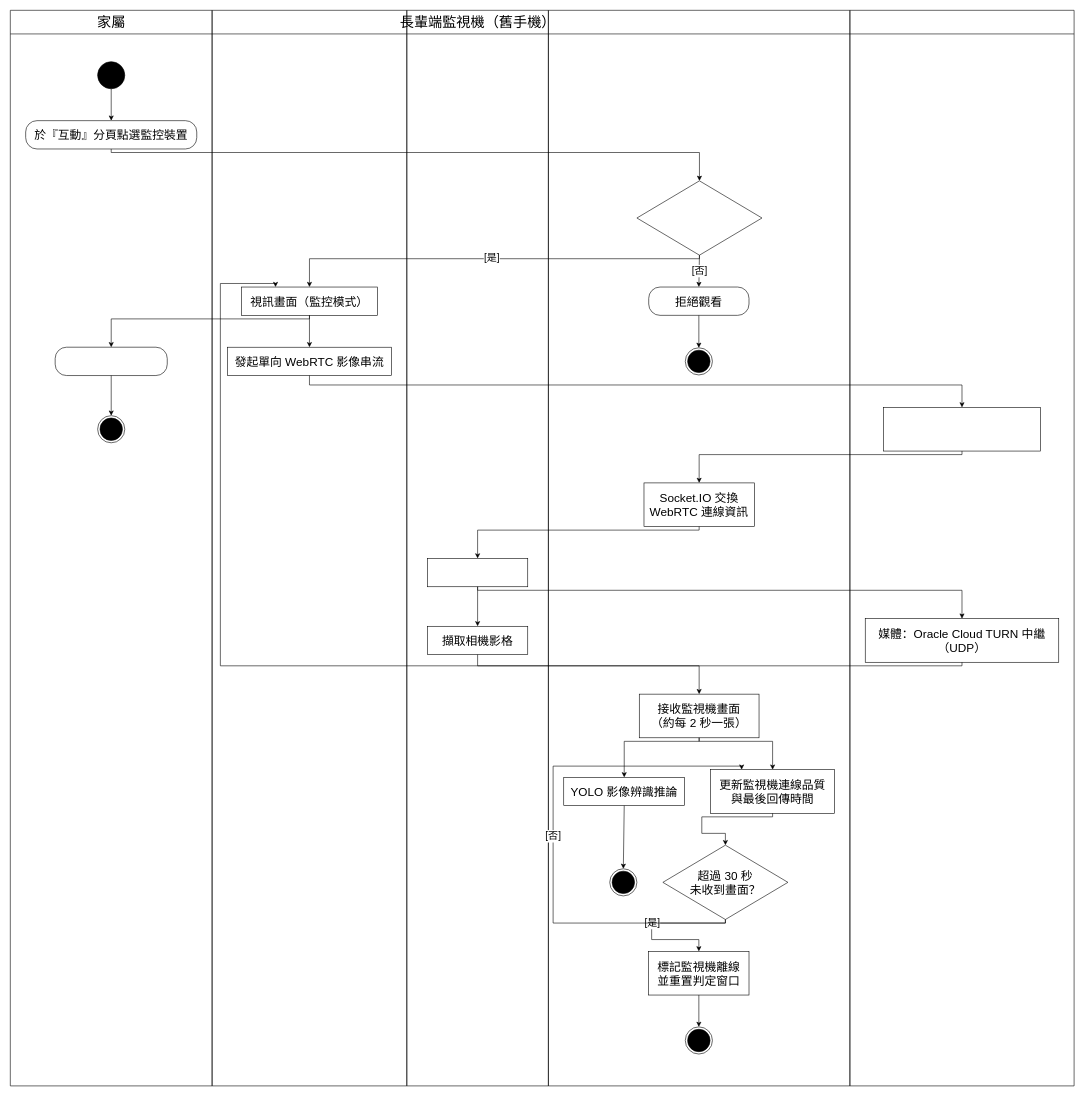
Image size: 1084x1096. Some labels were removed from this diagram. The shapes that lost their labels are listed below. From the top down, each one's box as (x1, y1, x2, y2) in pixels, then its label:
(636, 180, 762, 255): 家屬與長輩 關係驗證通過？
(55, 347, 167, 376): 觀看即時單向影像
(883, 407, 1040, 451): 信令：Tailscale Funnel （TCP、WSS）
(212, 10, 407, 1086): 家屬端
(548, 10, 850, 1086): uban-api 後端（信令與 AI 推論）
(849, 10, 1074, 1086): 雙軌傳輸（實體分離）
(427, 558, 528, 587): 啟動監控模式
